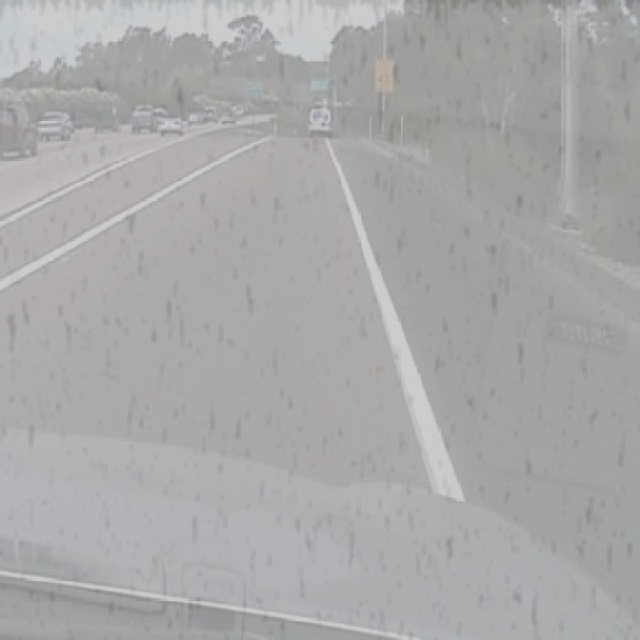rampSpeedAdvisory45: (374, 54, 394, 91)
